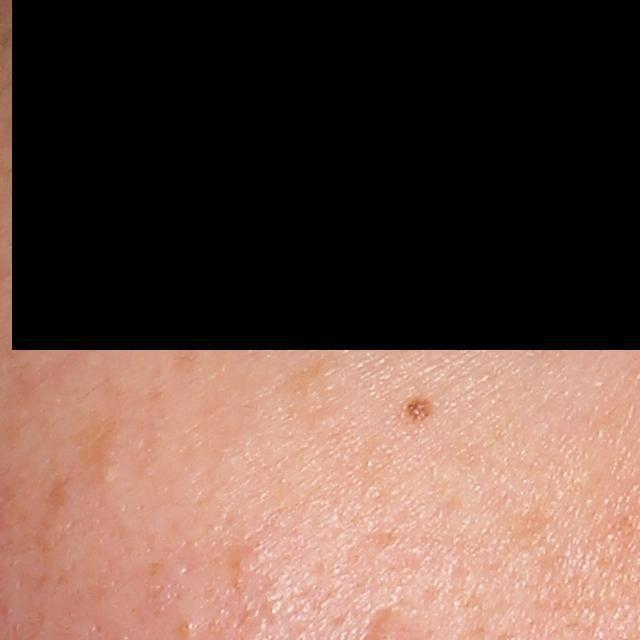melasma: (71, 414, 120, 463)
nevus: (395, 393, 434, 426)
